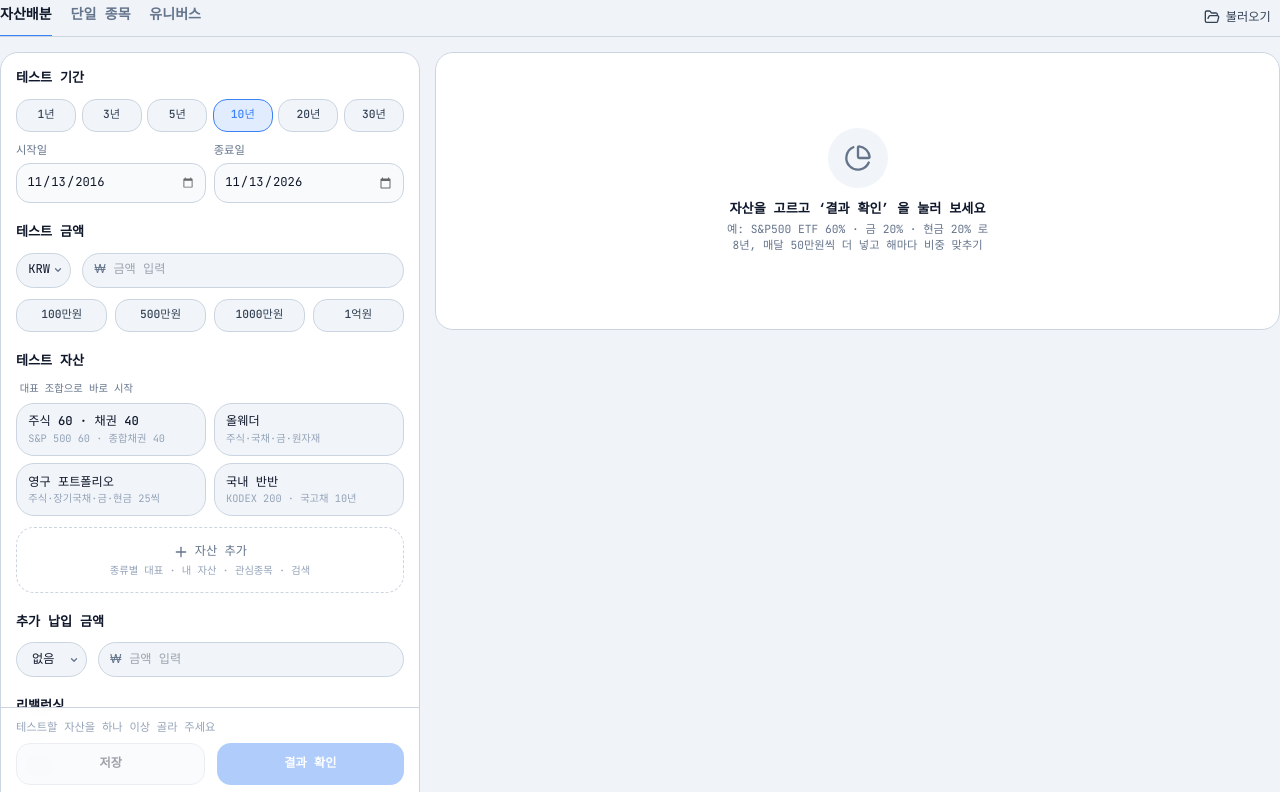
Scenario: 수수료를 뺀 손익을 같이 보여 준다 › 승률 옆에 수수료를 반영했다고 적는다
This screenshot has width=1280, height=792.
Click the tab "단일 종목".
click(101, 18)  # box [70, 0, 131, 37]
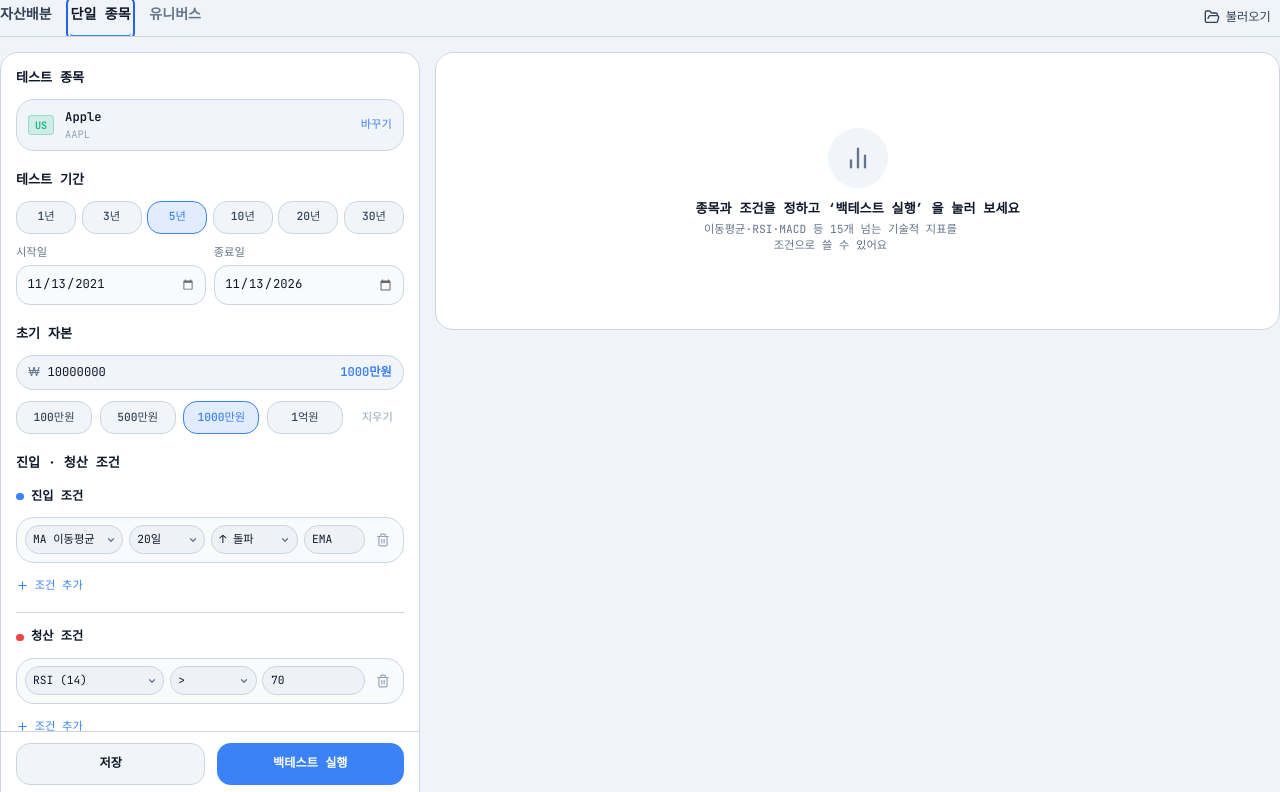
Type "2020-01-01" into the date field labelled "시작일".
click(111, 285); type("2020-01-01")  # box [16, 265, 206, 305]
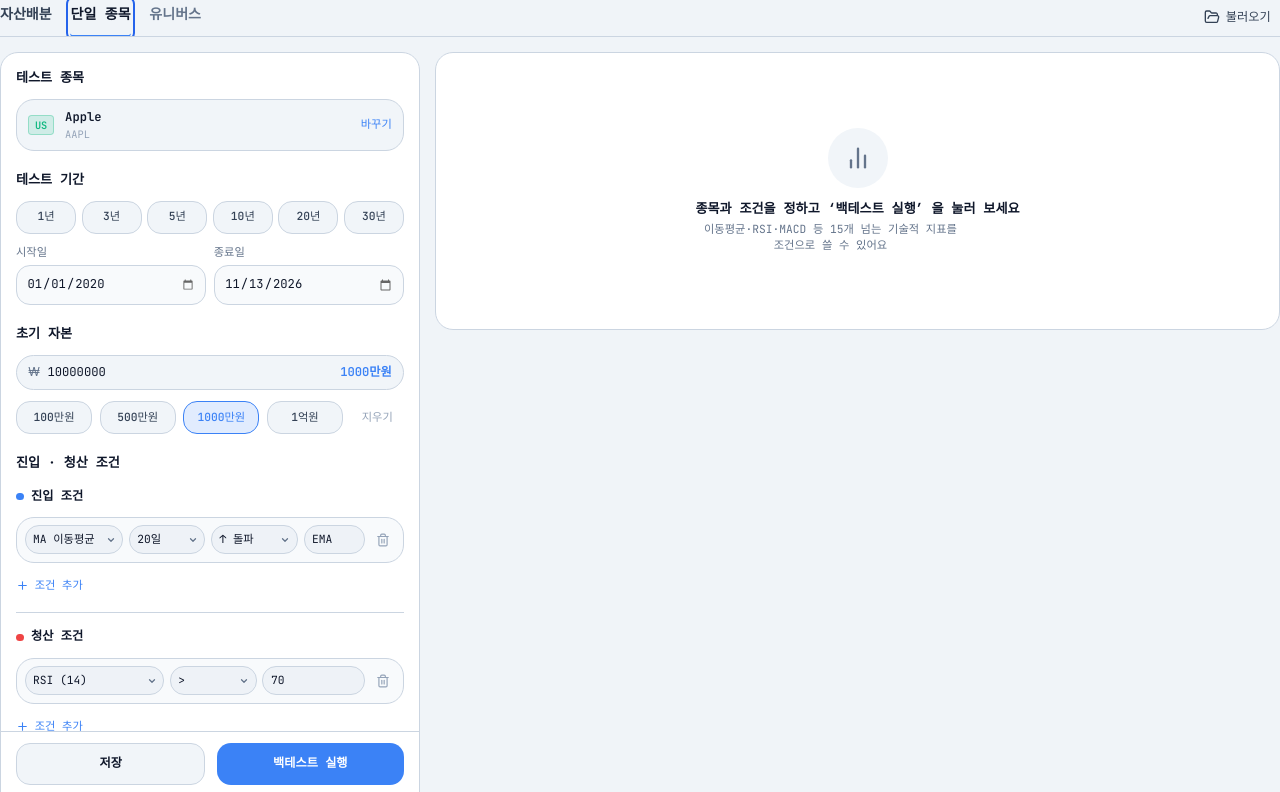
Type "2024-12-31" into the date field labelled "종료일".
click(309, 285); type("2024-12-31")  # box [214, 265, 404, 305]
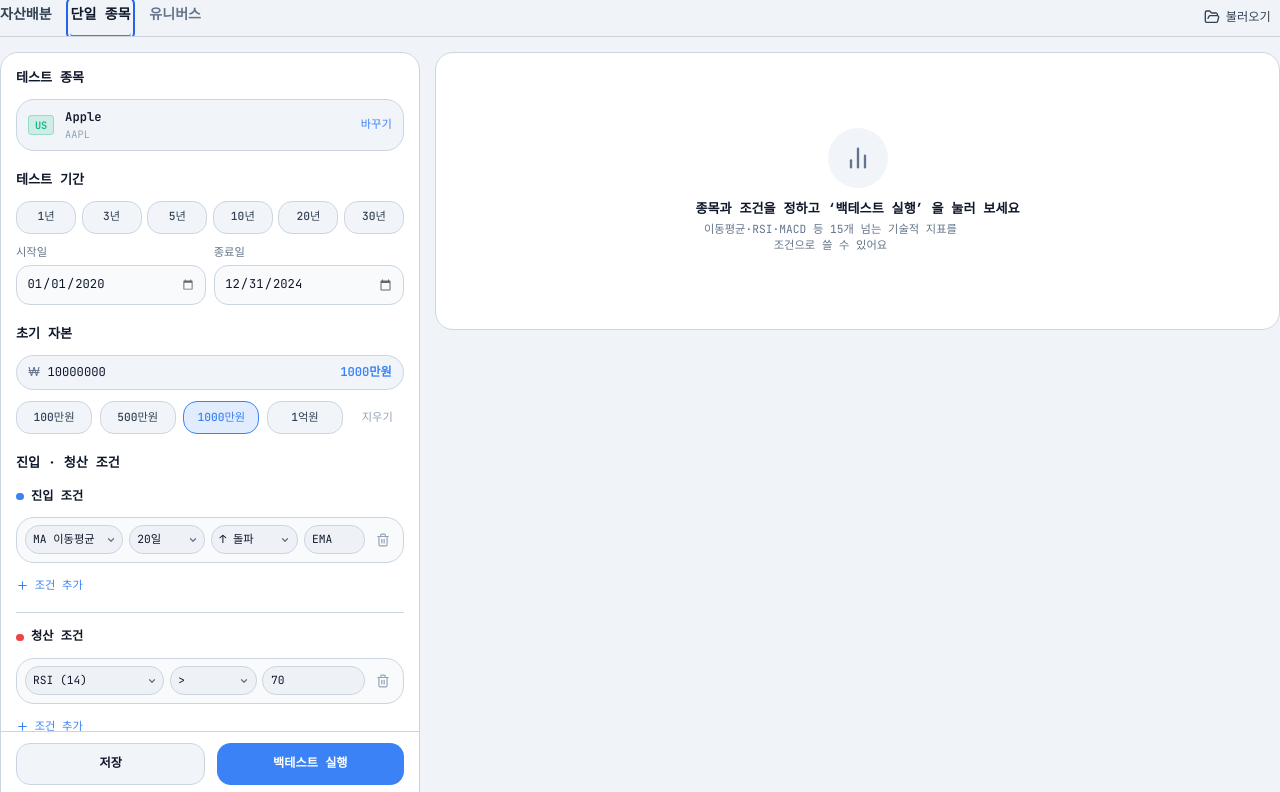
Click the button "백테스트 실행".
click(310, 764)  # box [217, 743, 404, 785]
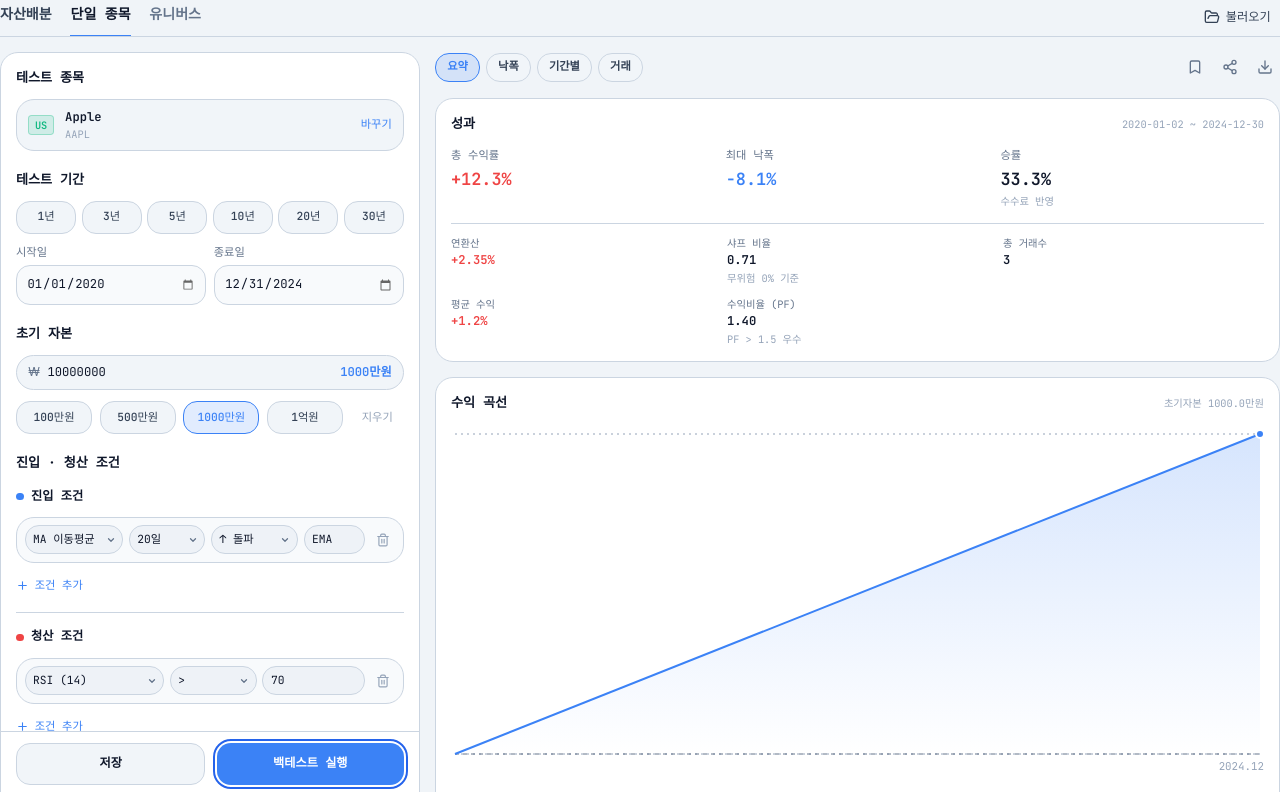
Check: the text "수수료 반영" is shown, box [1000, 194, 1054, 208]
